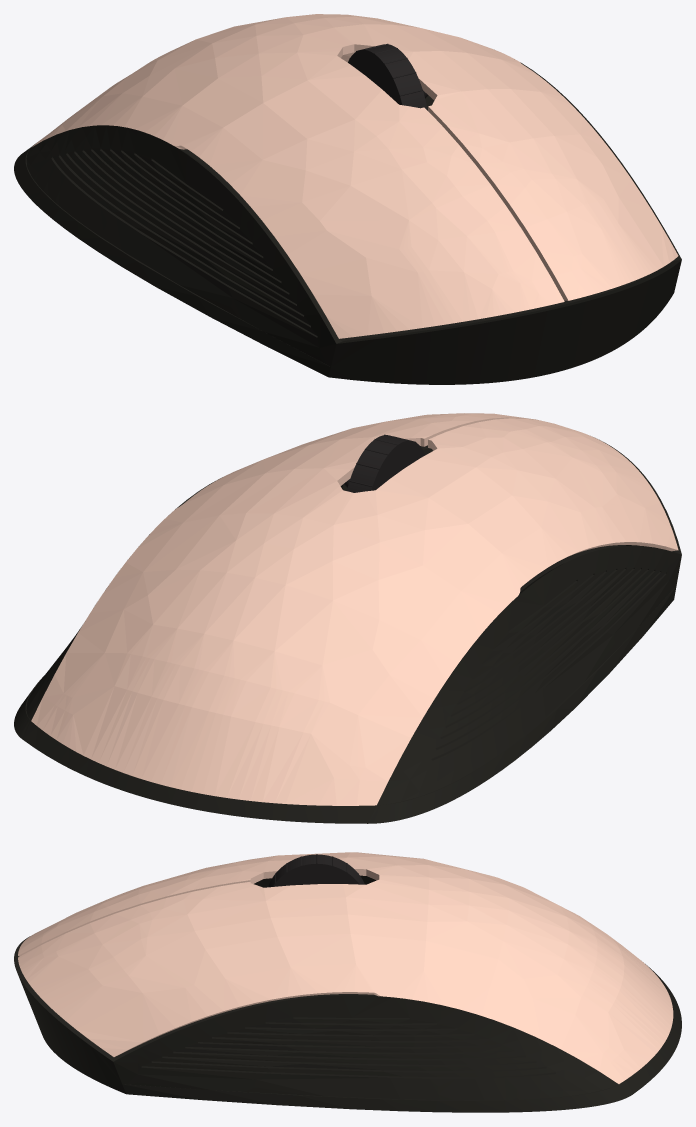
File: mouse.glb
3 renders of one model, top to bottom at view 1: azimuth 30°, elevation 25°; view 2: azimuth 150°, elevation 25°; view 3: azimuth 270°, elevation 25°, orthographic. The views are drawn at different scales.
Visible parts, largest first — view 1: top_bd, left_bd, bottom_bd, ball; view 2: top_bd, left_bd, bottom_bd, ball, left_bd.001; view 3: top_bd, left_bd.001, bottom_bd, ball.
Part boxes in pixels (left/top/right/bottom): top_bd: left=31, top=14, right=678, bottom=338; left_bd: left=26, top=125, right=341, bottom=366; bottom_bd: left=14, top=95, right=681, bottom=384; ball: left=348, top=43, right=427, bottom=109; top_bd: left=31, top=413, right=678, bottom=805; left_bd: left=374, top=545, right=681, bottom=811; bottom_bd: left=14, top=439, right=681, bottom=823; ball: left=347, top=434, right=425, bottom=492; left_bd.001: left=26, top=477, right=222, bottom=726; top_bd: left=18, top=852, right=673, bottom=1083; left_bd.001: left=113, top=995, right=623, bottom=1100; bottom_bd: left=14, top=936, right=681, bottom=1112; ball: left=267, top=854, right=364, bottom=887.
Size of the model in its own units: 1.14 by 0.4982 by 1.82.
